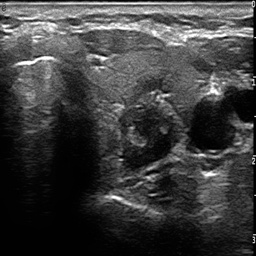mass: (121, 75, 179, 171)
